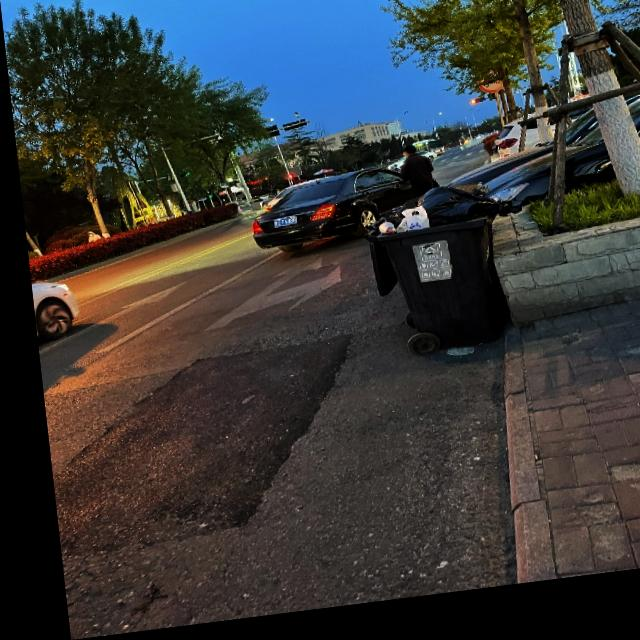overflow: (354, 189, 524, 365)
